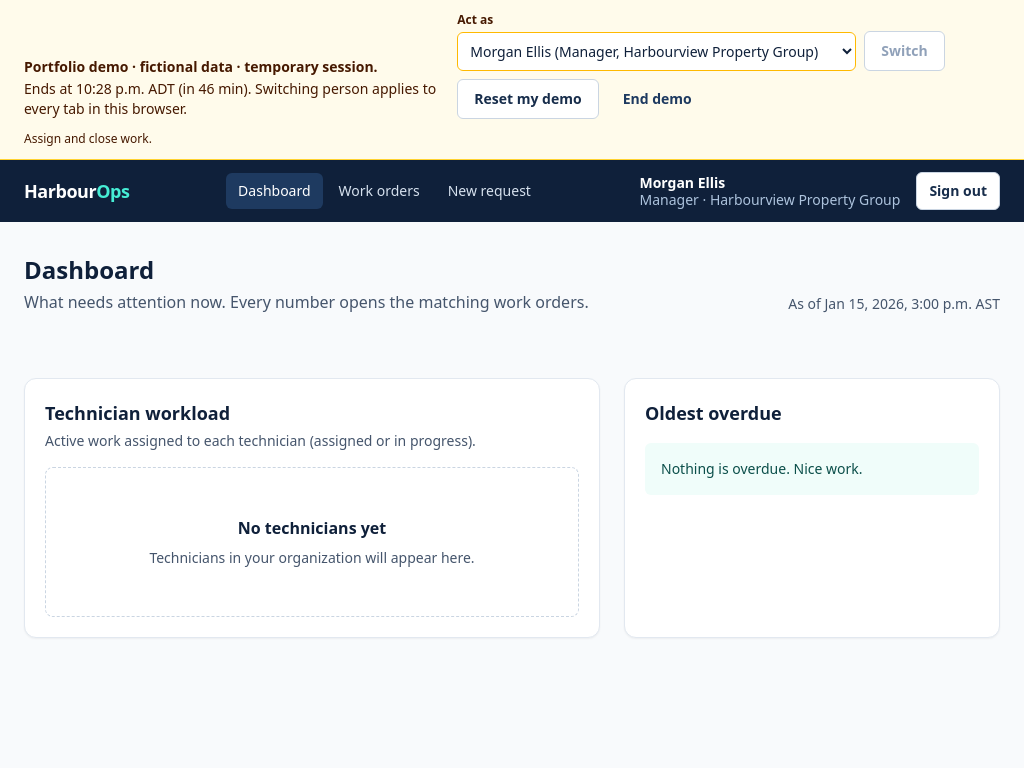
Scenario: Demo sandboxes › switches person by key only, refreshes the token, and announces the change
Expected: the button "Switch" is disabled, [864,31,945,71]
Select "Dana Fraser (Manager, Cove Commons Housing Co-op)" in the dropdown labelled "Act as": [657, 52] box [457,32,856,71]
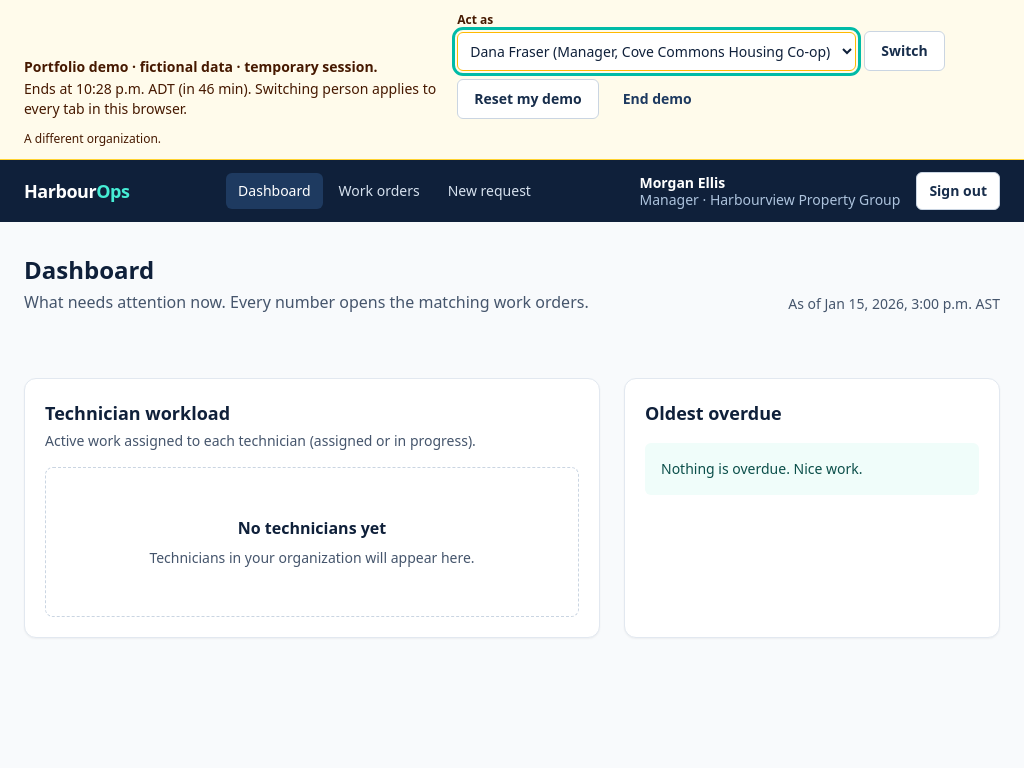
Now the text "A different organization." is shown, box [24,130,161,147]
Click the button "Switch": [905, 51] box [864,31,945,71]
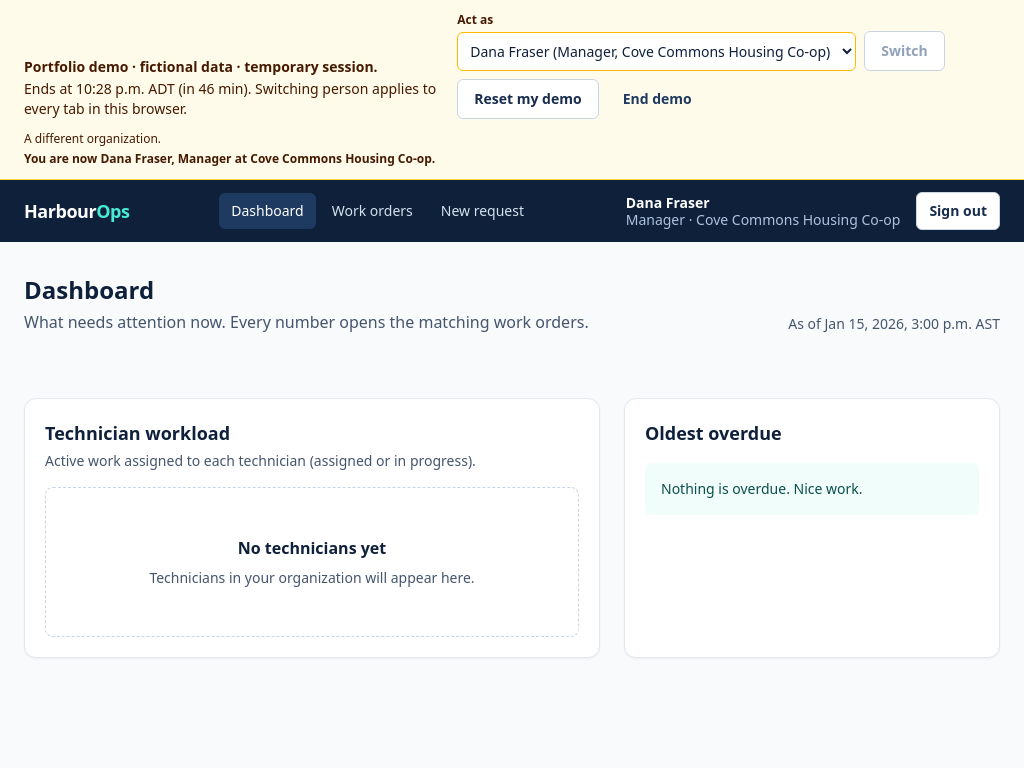
Now the message reads "You are now Dana Fraser, Manager at Cove Commons Housing Co-op.", box [24,150,435,167]
Now the text "Dana Fraser" is shown, box [626,192,710,212]
